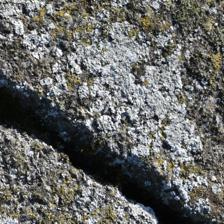Crack: (3, 35, 205, 185)
